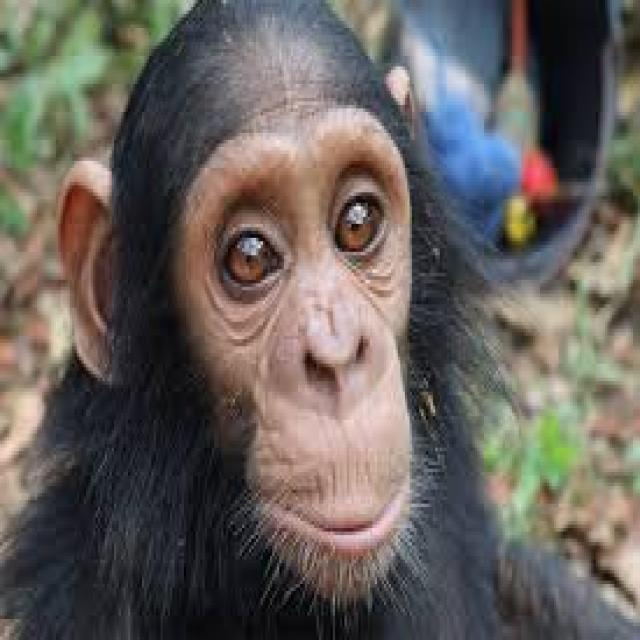Chimpanzee: (64, 3, 466, 640)
